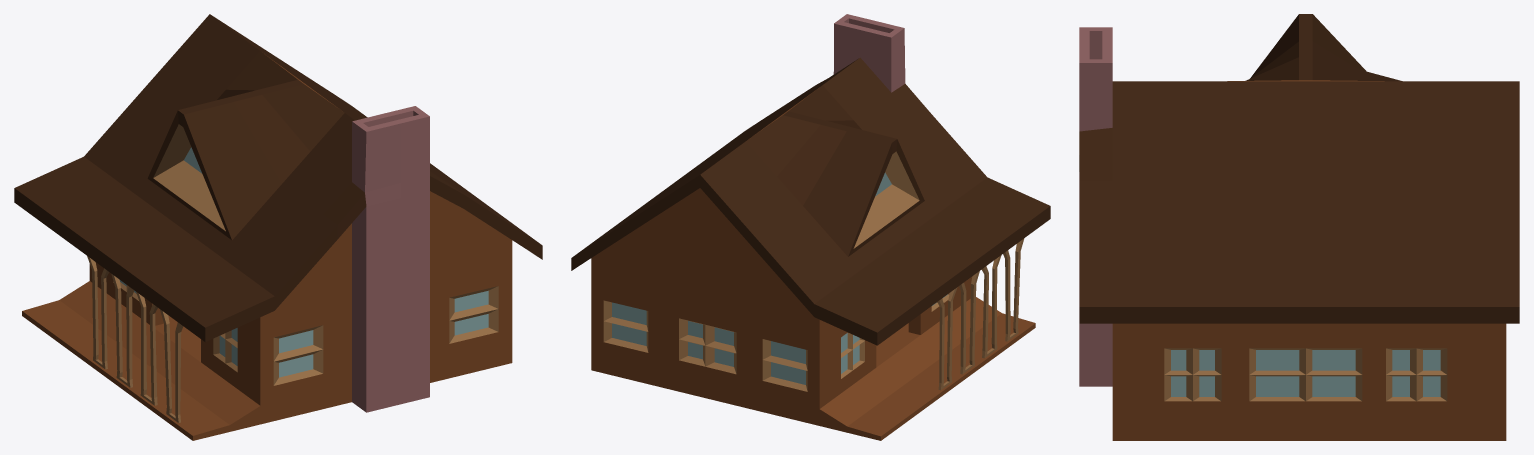
File: CharlesBuildingV3.fbx
3 views of the same model, side by side, from view 1: azimuth 30°, elevation 25°; view 2: azimuth 150°, elevation 25°; view 3: azimuth 270°, elevation 25° (orthographic). The views are drawn at different scales.
Visible parts, largest first — view 1: Charles Cabin; view 2: Charles Cabin; view 3: Charles Cabin.
Part boxes in pixels (x1,y1,x2,y2): Charles Cabin: [14, 14, 542, 440]; Charles Cabin: [571, 14, 1050, 440]; Charles Cabin: [1079, 14, 1519, 440].
Bounding box in the file's own units: 1575 × 1606 × 1278.
